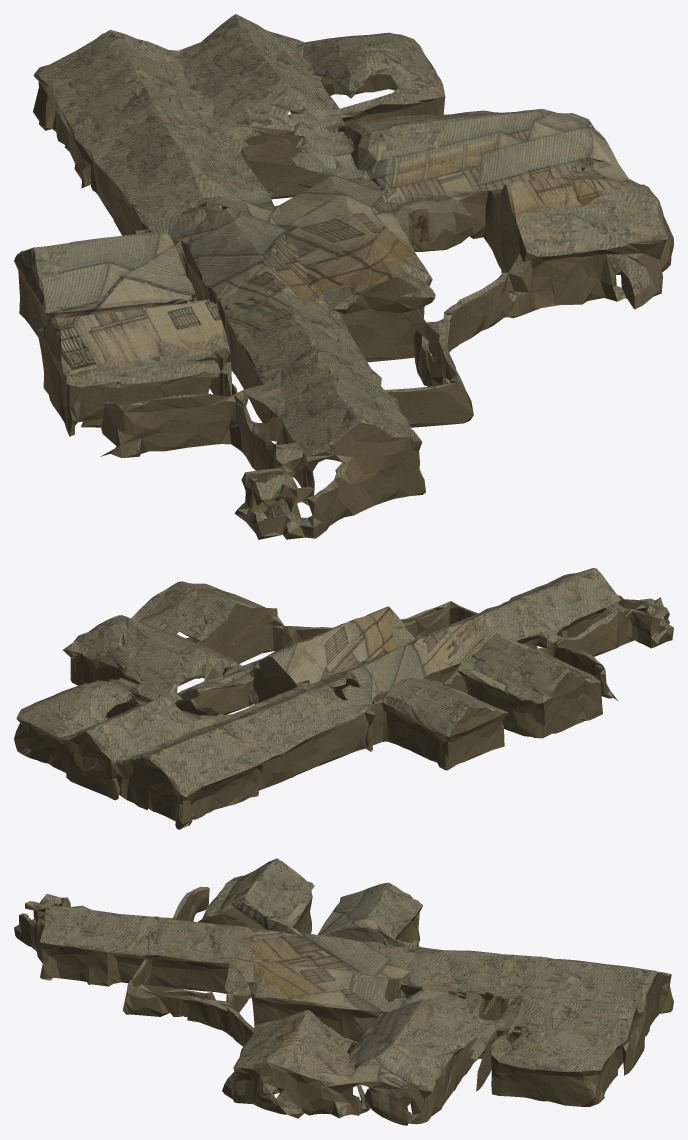
The picture shows the model from 3 angles, top to bottom: view 1: azimuth 30°, elevation 25°; view 2: azimuth 150°, elevation 25°; view 3: azimuth 270°, elevation 25°; orthographic projection. The views are drawn at different scales.
Parts seen in each view (by area): view 1: roof, painted, wall; view 2: roof, wall, painted; view 3: roof, wall, painted.
Part boxes in pixels (x1=…): roof: x1=16, y1=14, x2=668, y2=536; painted: x1=38, y1=109, x2=629, y2=421; wall: x1=14, y1=68, x2=673, y2=539; roof: x1=14, y1=568, x2=673, y2=829; wall: x1=14, y1=595, x2=673, y2=829; painted: x1=63, y1=586, x2=594, y2=713; roof: x1=14, y1=858, x2=671, y2=1122; wall: x1=14, y1=889, x2=673, y2=1125; painted: x1=221, y1=858, x2=447, y2=1122.
Size of the model in its own units: 21.31 by 3.03 by 27.92.
Materials: 3 (3 with a texture image).
